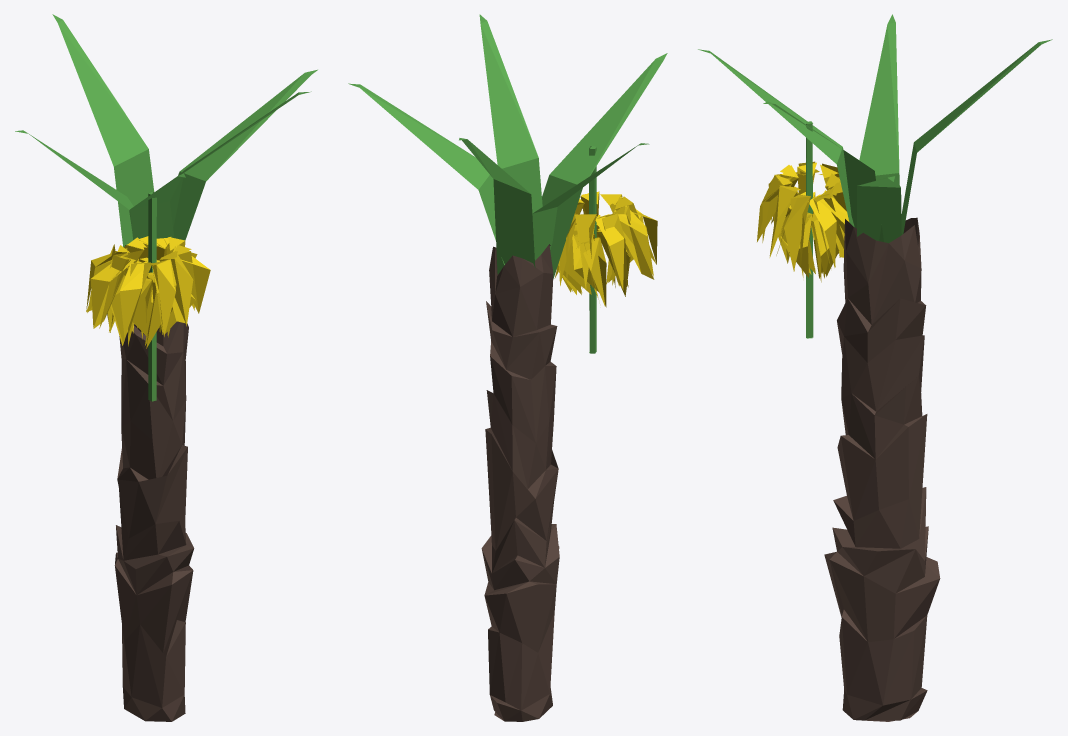
The model's file is palme.fbx.
3 views of the same model, side by side, from view 1: azimuth 30°, elevation 25°; view 2: azimuth 150°, elevation 25°; view 3: azimuth 270°, elevation 25° (orthographic). The views are drawn at different scales.
Visible parts, largest first — view 1: Stamm, Banane_1_2, Extrudieren_3, Extrudieren_2, Extrudieren_1, Staute, Extrudieren_4, Extrudieren; view 2: Stamm, Banane_1_2, Extrudieren_1, Extrudieren, Extrudieren_3, Extrudieren_2, Extrudieren_4, Staute; view 3: Stamm, Banane_1_2, Extrudieren_4, Extrudieren_2, Extrudieren_1, Extrudieren_3, Extrudieren, Staute.
Part boxes in pixels (left/top/right/bottom): Stamm: left=114, top=245, right=194, bottom=721; Banane_1_2: left=86, top=236, right=210, bottom=348; Extrudieren_3: left=52, top=14, right=154, bottom=247; Extrudieren_2: left=173, top=69, right=317, bottom=240; Extrudieren_1: left=130, top=173, right=185, bottom=239; Staute: left=148, top=192, right=156, bottom=401; Extrudieren_4: left=15, top=130, right=133, bottom=230; Extrudieren: left=170, top=91, right=311, bottom=227; Stamm: left=481, top=244, right=559, bottom=721; Banane_1_2: left=554, top=191, right=657, bottom=307; Extrudieren_1: left=542, top=53, right=667, bottom=278; Extrudieren: left=479, top=14, right=542, bottom=213; Extrudieren_3: left=459, top=138, right=535, bottom=274; Extrudieren_2: left=348, top=83, right=504, bottom=264; Extrudieren_4: left=532, top=143, right=649, bottom=260; Staute: left=589, top=146, right=596, bottom=353; Stamm: left=824, top=217, right=940, bottom=721; Banane_1_2: left=757, top=161, right=849, bottom=282; Extrudieren_4: left=859, top=14, right=899, bottom=184; Extrudieren_2: left=857, top=176, right=901, bottom=243; Extrudieren_1: left=698, top=49, right=854, bottom=226; Extrudieren_3: left=901, top=39, right=1052, bottom=234; Extrudieren: left=763, top=101, right=883, bottom=241; Staute: left=806, top=121, right=813, bottom=338.
Size of the model in its own units: 843 by 1684 by 823.
3 materials, 3 textured.
